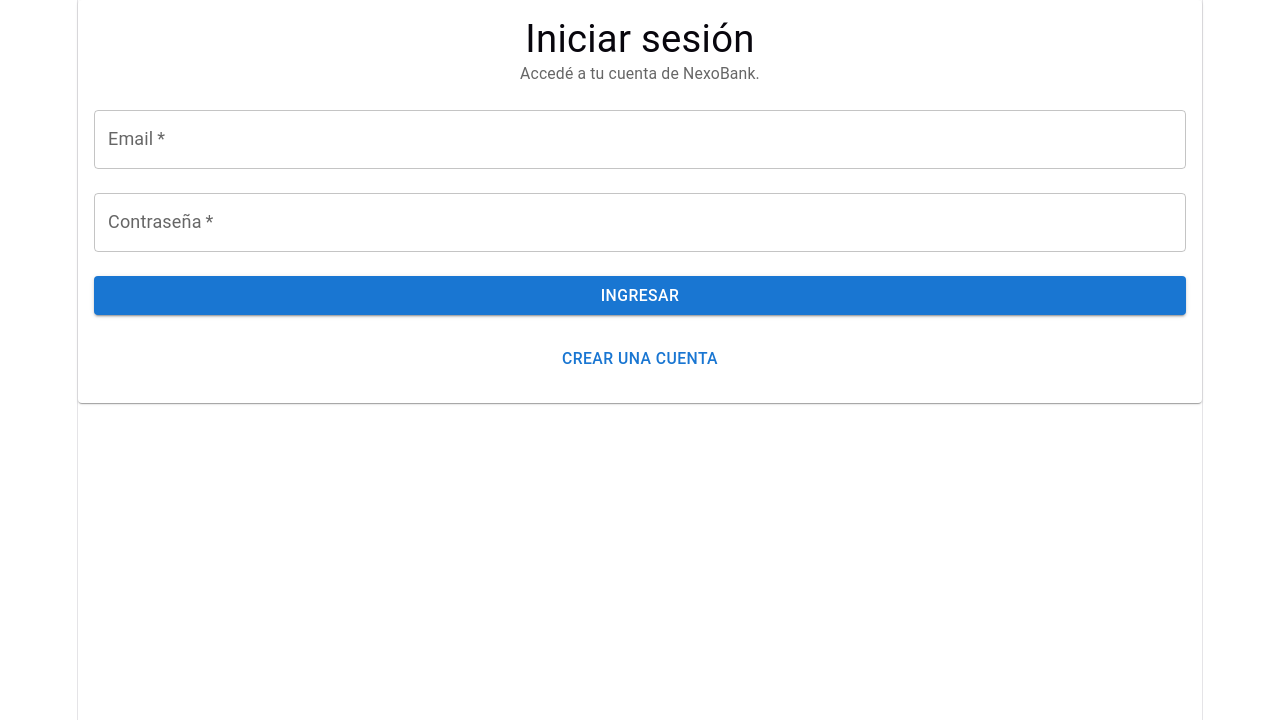
Scenario: LoginPage › shows a useful message when authentication fails
The width and height of the screenshot is (1280, 720).
Type "ada@nexobank.test" into the field labelled "Email *" at (640, 139), box [94,110,1186,169]
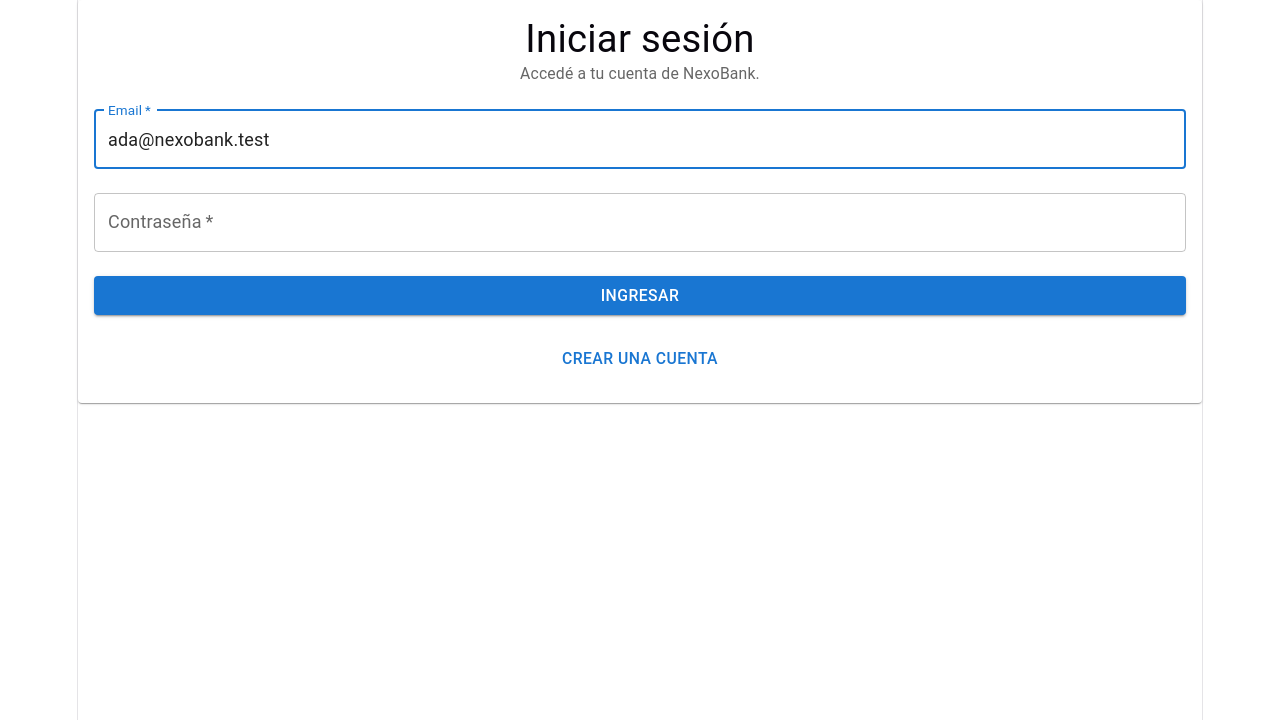
Type "wrong-password" into the password field labelled "Contraseña *" at (640, 222), box [94,193,1186,252]
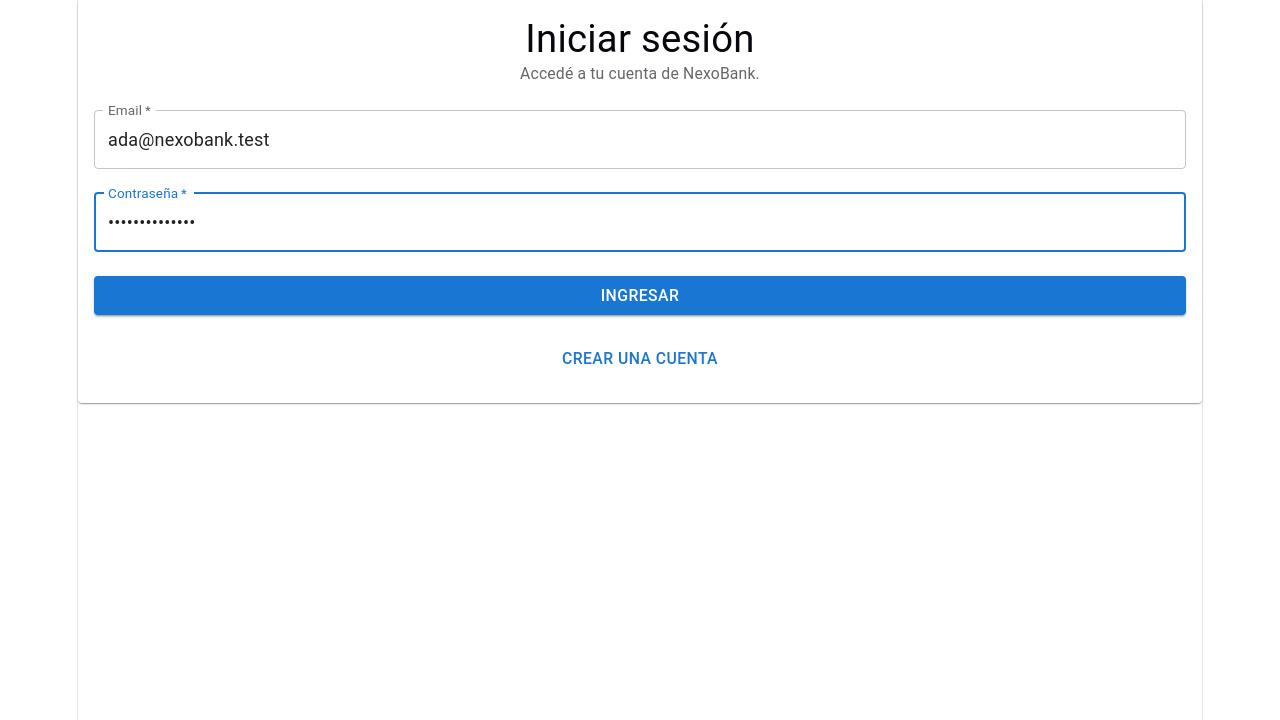
Click the button "Ingresar" at (640, 295), box [94,276,1186,315]
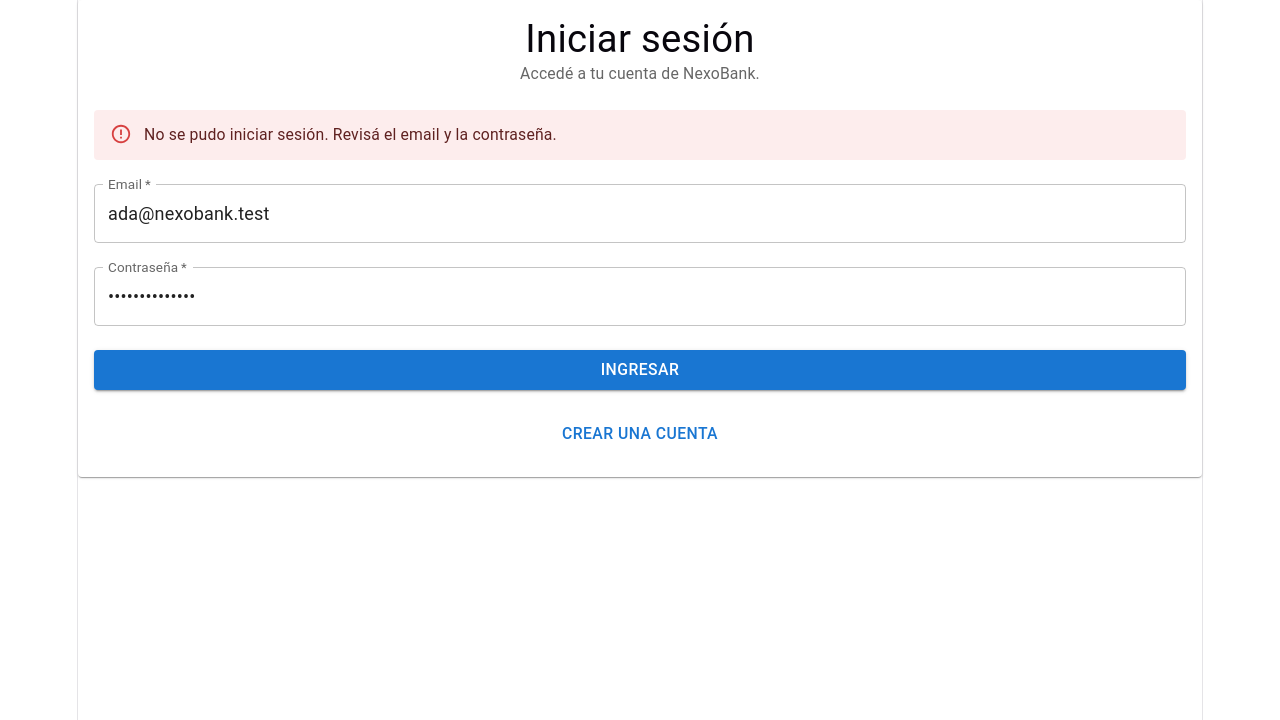
Check: the message shows "No se pudo iniciar sesión", box [144,125,557,144]
